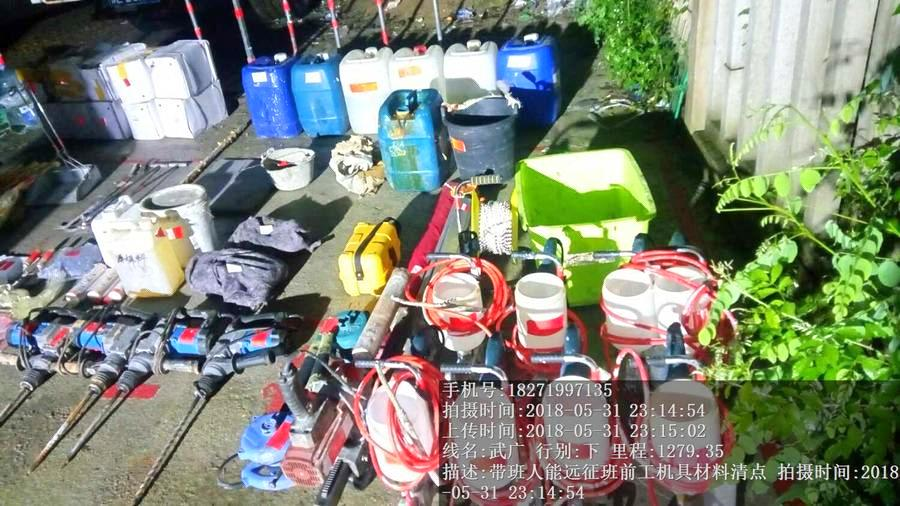DZ: (187, 309, 298, 431)
T: (506, 150, 656, 252)
